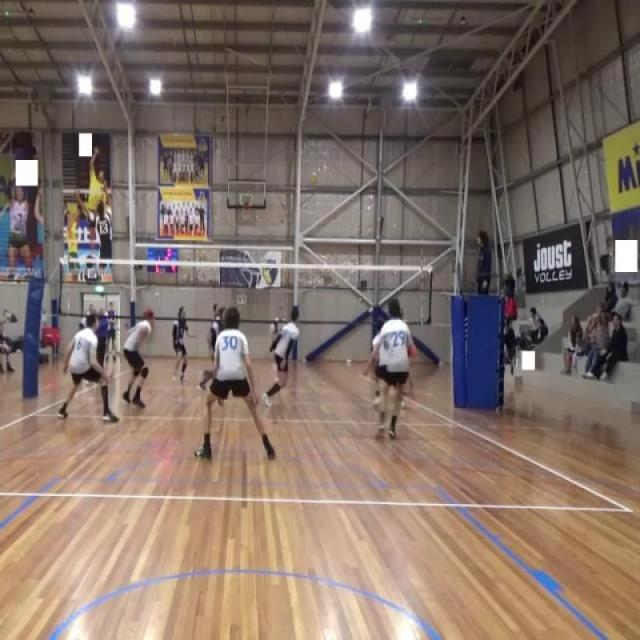volleyball: (310, 171, 319, 186)
